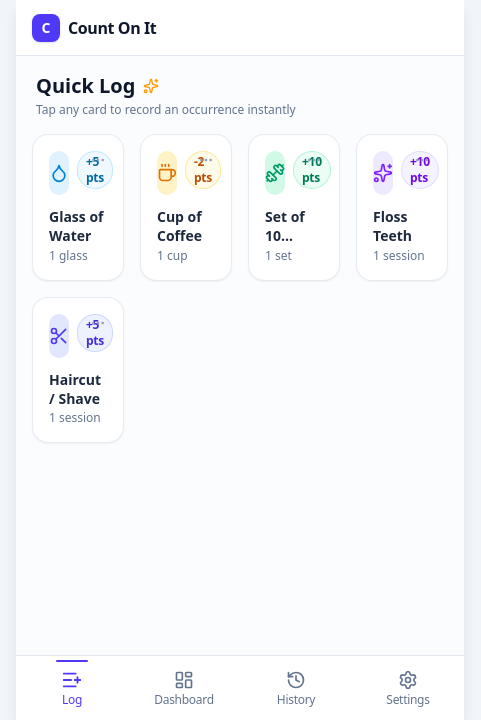
Test: App.vue › switches views when clicking tabs in bottom navigation
// Switch to Dashboard
Click the tab "Dashboard": (184, 688) [128,656,240,719]
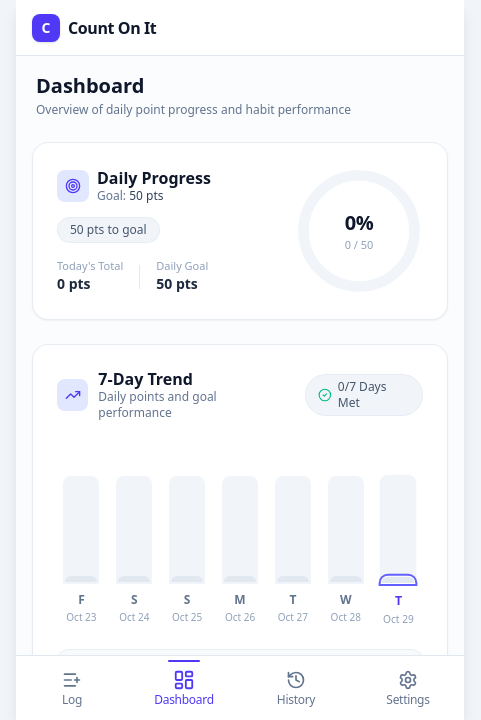
Check: the text "Dashboard" is shown, box [36,72,144,100]
// Switch to History
Click the tab "History": (296, 688) [240,656,352,719]
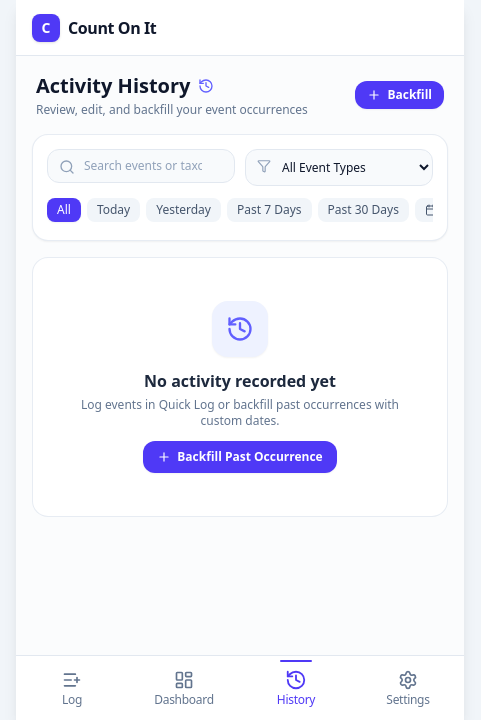
Check: the text "Activity History" is shown, box [36,72,190,100]
// Switch to Settings
Click the tab "Settings": (408, 688) [352,656,464,719]
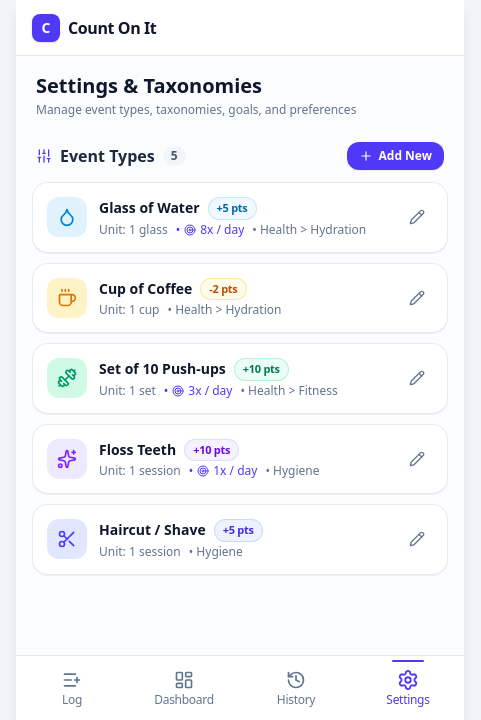
Check: the text "Settings & Taxonomies" is shown, box [36,72,262,100]
// Switch back to Log
Click the tab "Log": (72, 688) [16,656,128,719]
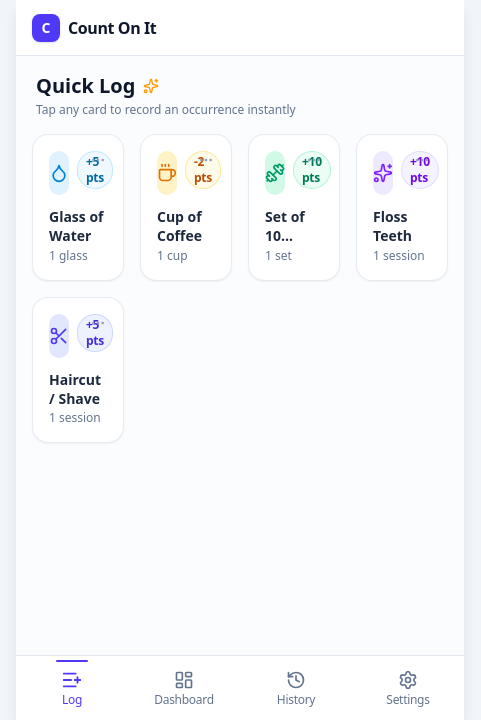
Check: the text "Glass of Water" is shown, box [49,207,107,246]
Check: the text "Quick Log" is shown, box [36,72,135,100]
